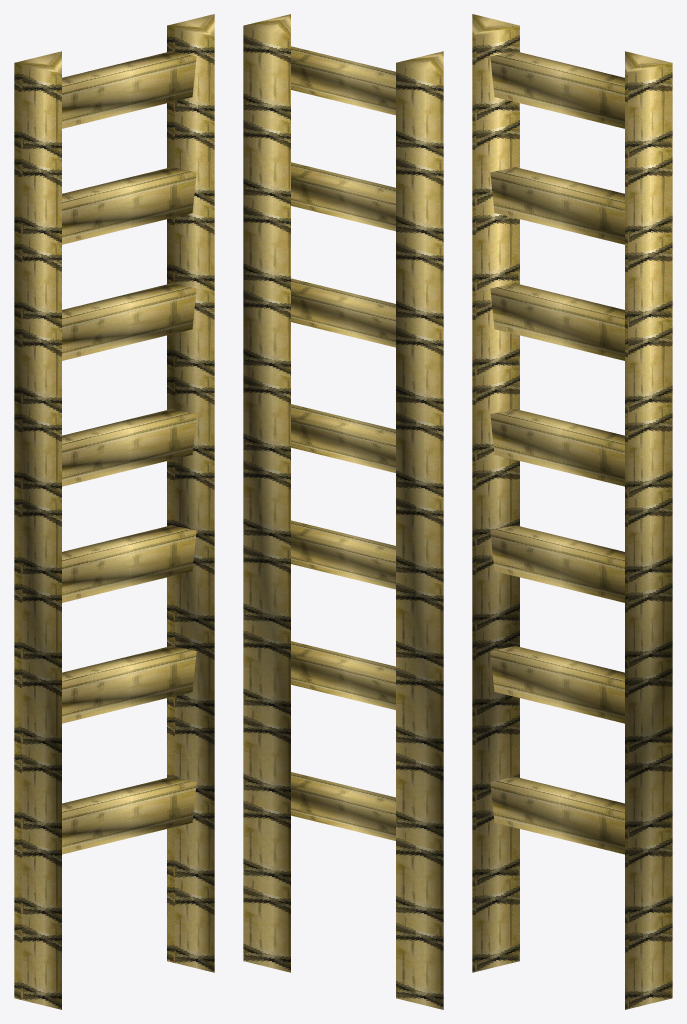
Rendered from LADDER14_ACTORDEF.fbx.
The picture shows the model from 3 angles, left to right: view 1: azimuth 30°, elevation 25°; view 2: azimuth 150°, elevation 25°; view 3: azimuth 330°, elevation 25°; orthographic projection.
Visible parts, largest first — view 1: U3DMesh; view 2: U3DMesh; view 3: U3DMesh.
Part boxes in pixels (left/top/right/bottom): U3DMesh: left=14, top=14, right=214, bottom=1009; U3DMesh: left=243, top=14, right=443, bottom=1009; U3DMesh: left=472, top=14, right=672, bottom=1009.
Bounding box in the file's own units: 3.49 × 15.58 × 0.7207.
